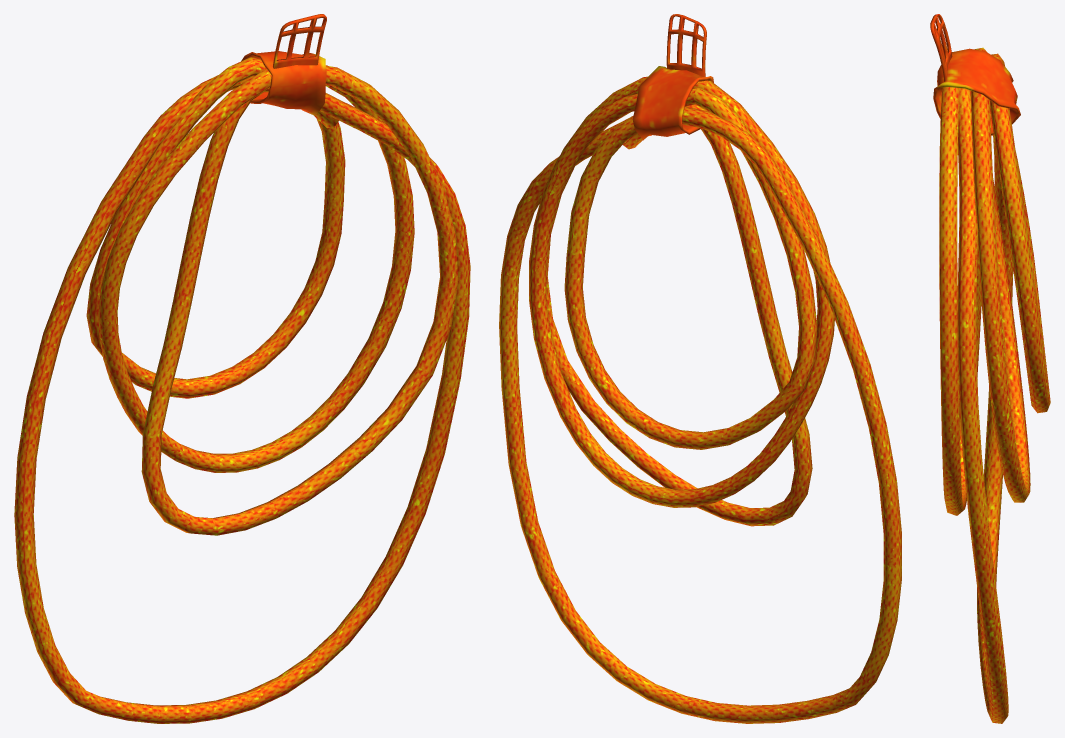
File: SM_Cable_Spool_01_LOD0.glb
3 views of the same model, side by side, from view 1: azimuth 30°, elevation 25°; view 2: azimuth 150°, elevation 25°; view 3: azimuth 270°, elevation 25° (orthographic). The views are drawn at different scales.
Visible parts, largest first — view 1: SM_Cable_Spool_01_LOD0; view 2: SM_Cable_Spool_01_LOD0; view 3: SM_Cable_Spool_01_LOD0.
Boxes of the visible parts, left/top/right/bottom form: SM_Cable_Spool_01_LOD0: left=14, top=14, right=470, bottom=723; SM_Cable_Spool_01_LOD0: left=499, top=14, right=901, bottom=723; SM_Cable_Spool_01_LOD0: left=930, top=14, right=1050, bottom=723.
Bounding box in the file's own units: 0.6252 × 0.9679 × 0.1498.
1 material, 1 textured.
